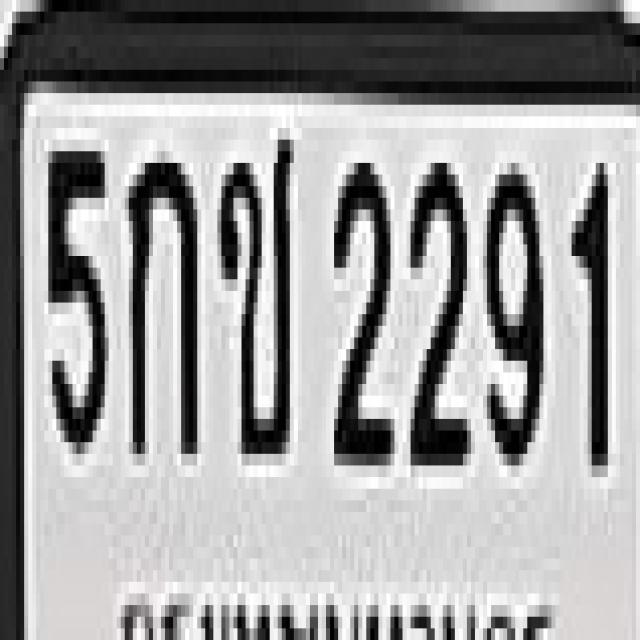1: (568, 151, 604, 454)
2: (406, 151, 463, 454), (330, 151, 386, 454)
5: (44, 140, 101, 442)
9: (483, 151, 539, 454)
A01: (125, 140, 193, 453)
A10: (217, 122, 290, 448)
